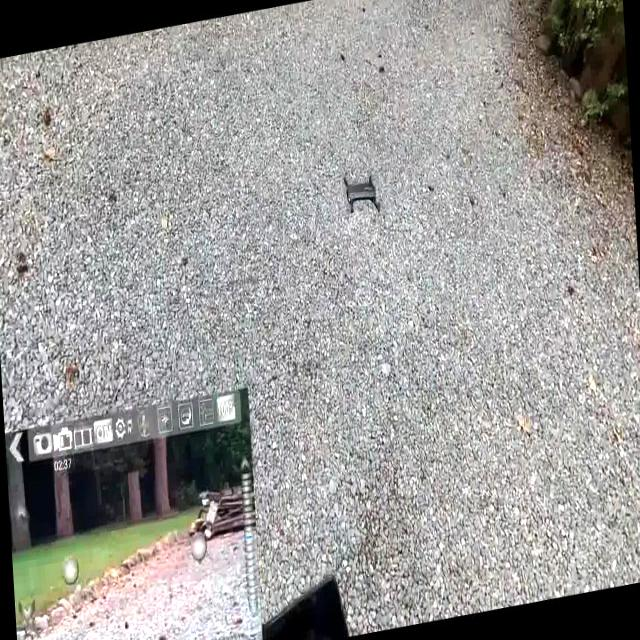drone: (339, 161, 385, 224)
